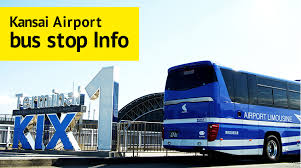bus: (162, 60, 301, 162)
